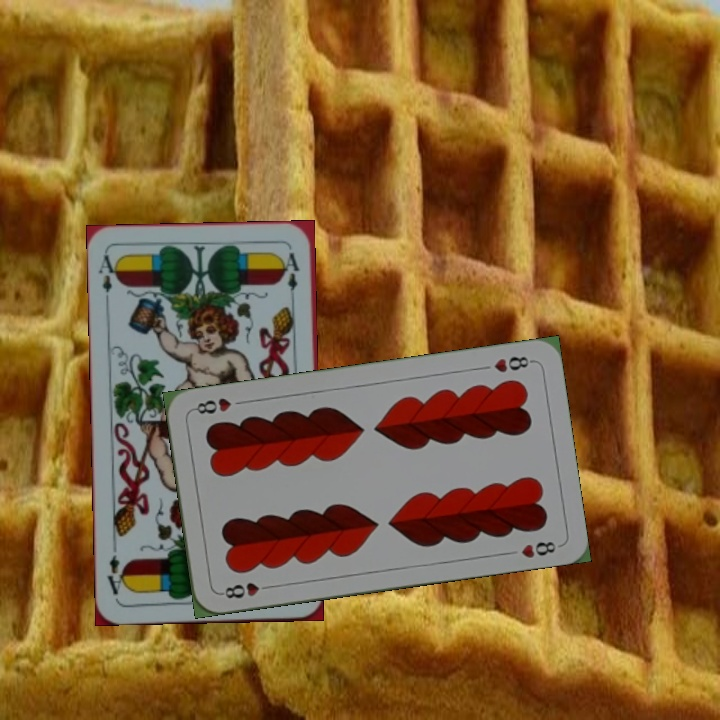EA: (94, 250, 121, 309)
H8: (216, 578, 275, 601), (490, 352, 536, 375)
